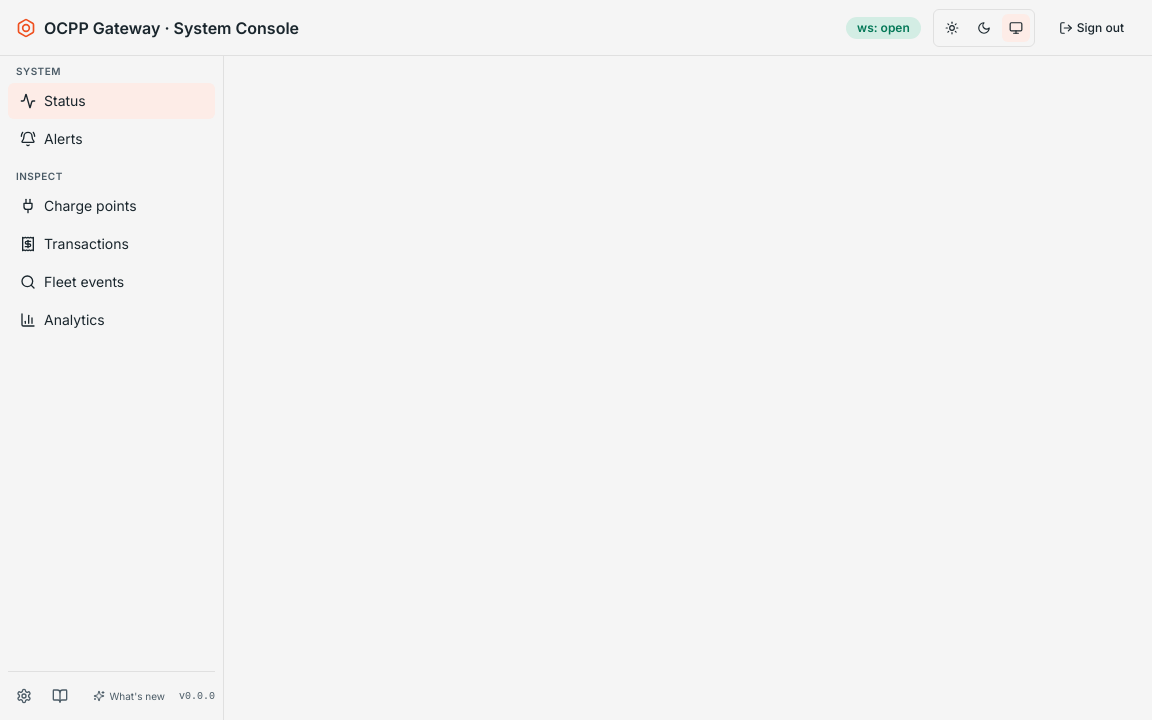
Test: AppShell — sign-out confirmation › cancelling the dialog leaves the session intact
Click the button with test id "signout-button" at x=1091, y=28, box [1047,10,1136,46]
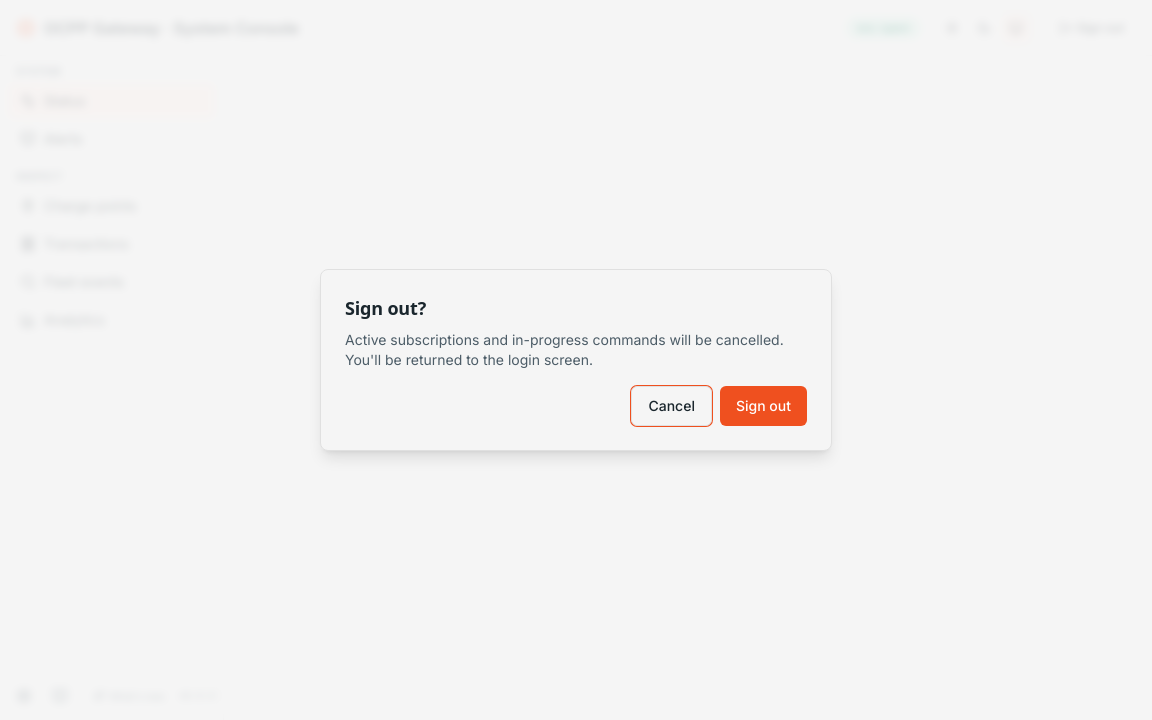
Click the button "Cancel" at x=672, y=406, box [632,386,712,426]
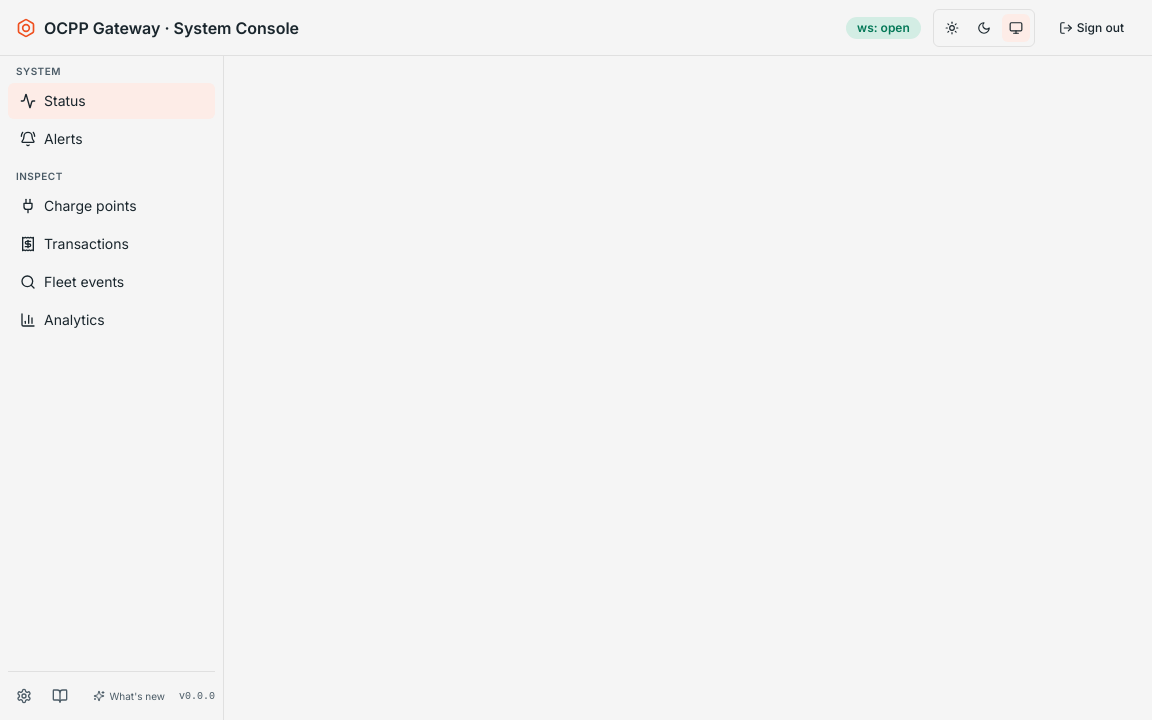
expect the dialog with test id "signout-dialog" is gone: met
